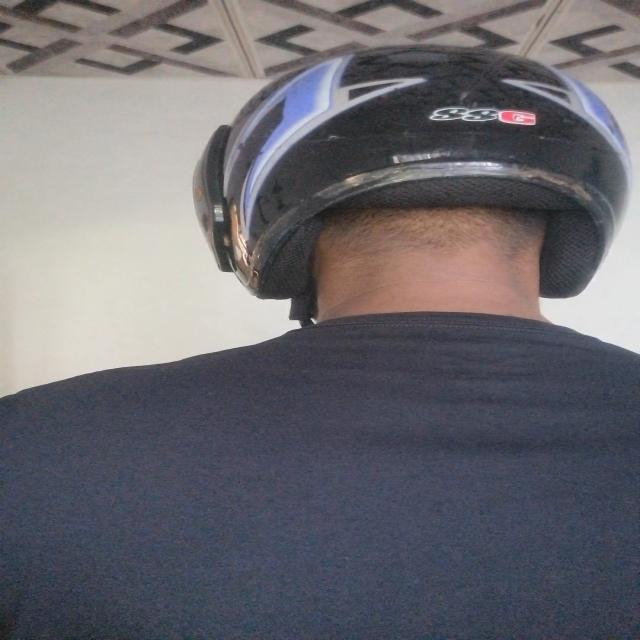Helmet_Wearer: (170, 33, 640, 432)
Person: (4, 39, 640, 640)
